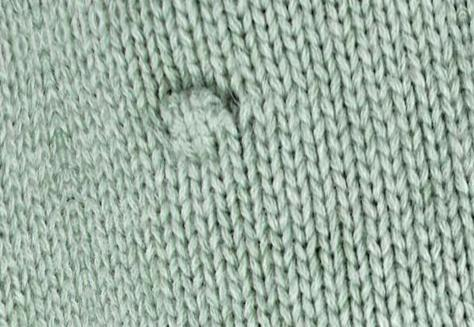knot: (151, 86, 245, 159)
